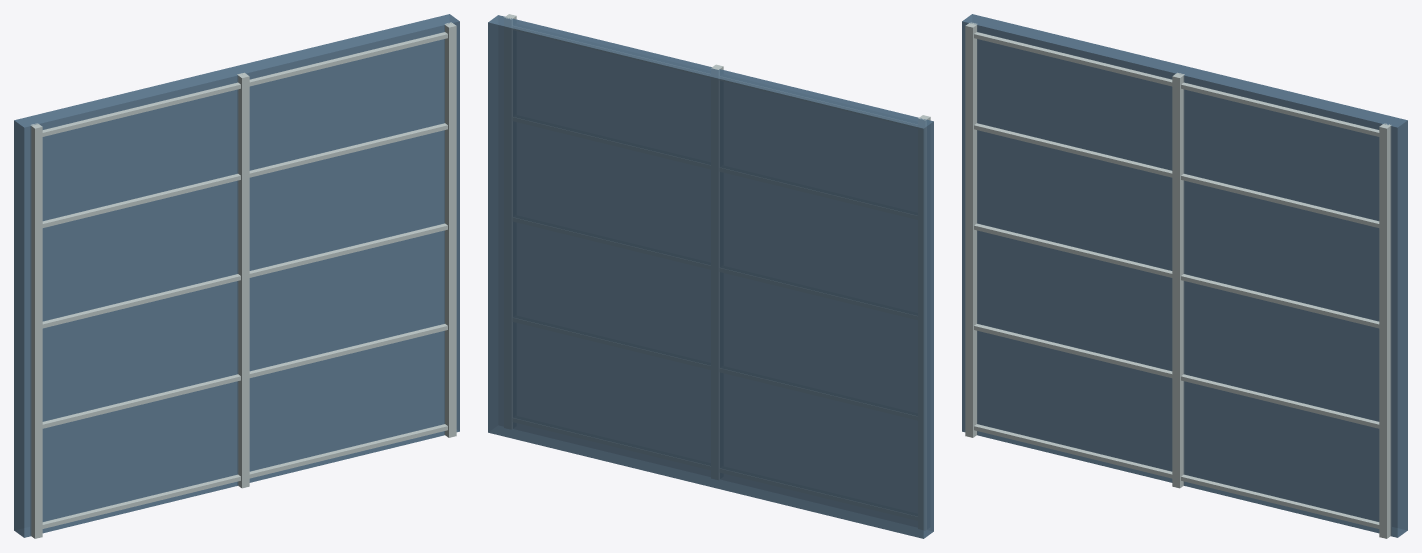
Rendered from Arch_Solar_Screen_2m.glb.
3 renders of one model, left to right at view 1: azimuth 30°, elevation 25°; view 2: azimuth 150°, elevation 25°; view 3: azimuth 330°, elevation 25°, orthographic.
Parts seen in each view (by area): view 1: Arch_Solar_Screen_2m; view 2: Arch_Solar_Screen_2m; view 3: Arch_Solar_Screen_2m.
Boxes of the visible parts, left/top/right/bottom form: Arch_Solar_Screen_2m: left=14, top=14, right=459, bottom=538; Arch_Solar_Screen_2m: left=488, top=14, right=933, bottom=538; Arch_Solar_Screen_2m: left=962, top=14, right=1407, bottom=538.
Bounding box in the file's own units: 2 × 1.8 × 0.11.
